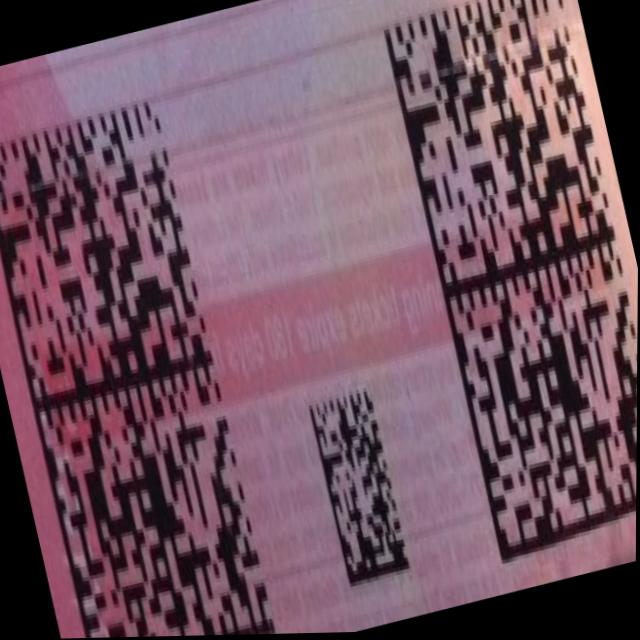datamatrix: (1, 97, 282, 640), (377, 1, 640, 565), (308, 388, 414, 588)
